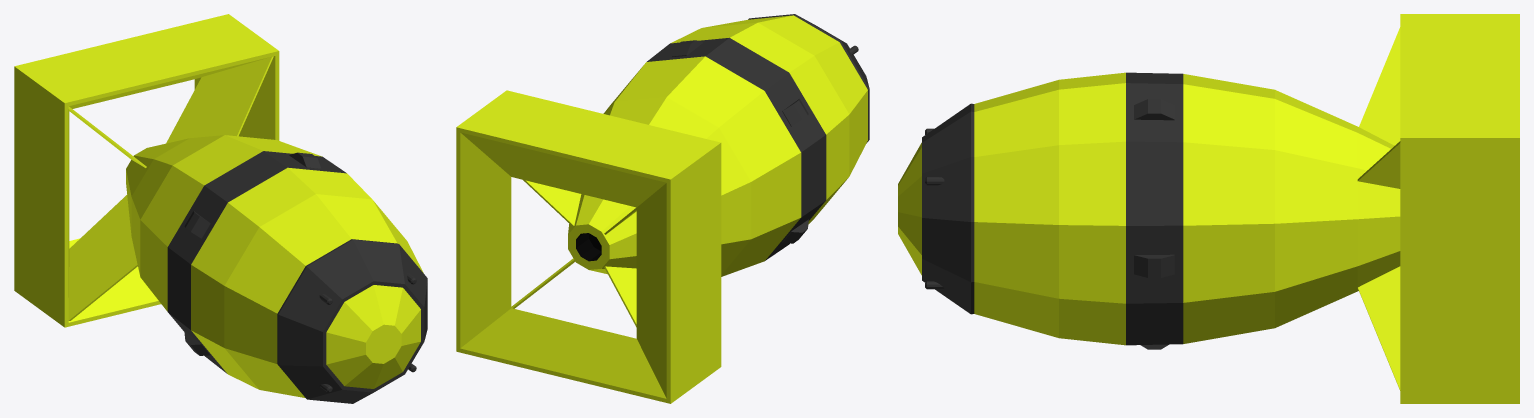
Rendered from SM_bomb04.fbx.
3 views of the same model, side by side, from view 1: azimuth 30°, elevation 25°; view 2: azimuth 150°, elevation 25°; view 3: azimuth 270°, elevation 25° (orthographic). The views are drawn at different scales.
Parts seen in each view (by area): view 1: Cylinder; view 2: Cylinder; view 3: Cylinder.
Boxes of the visible parts, x1,y1,x2,y2 form: Cylinder: (14, 14, 427, 403); Cylinder: (456, 14, 869, 403); Cylinder: (898, 14, 1519, 403).
Size of the model in its own units: 147 by 147 by 311.
